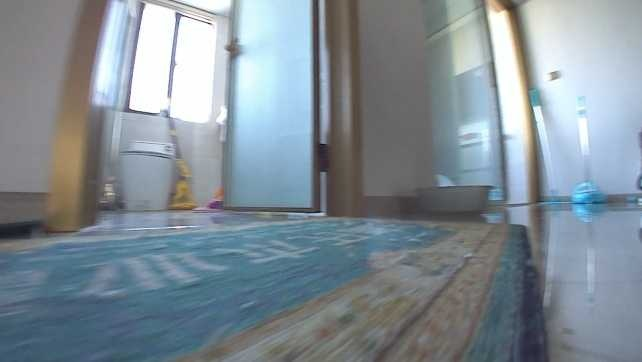blanket: (1, 217, 552, 360)
door_anno: (218, 1, 325, 211)
toilet: (116, 139, 180, 212)
